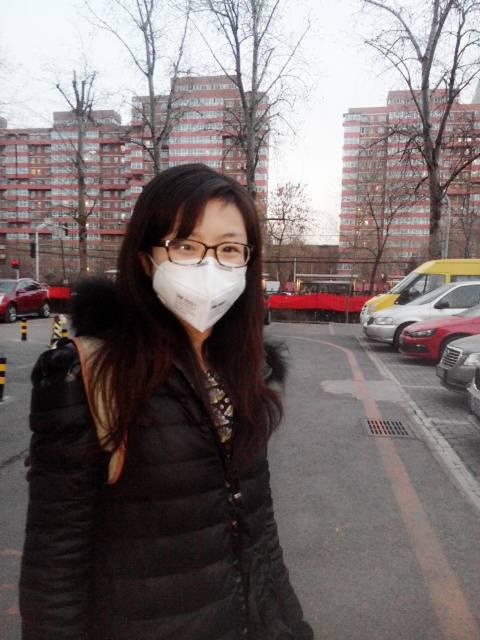OK: (155, 225, 260, 330)
